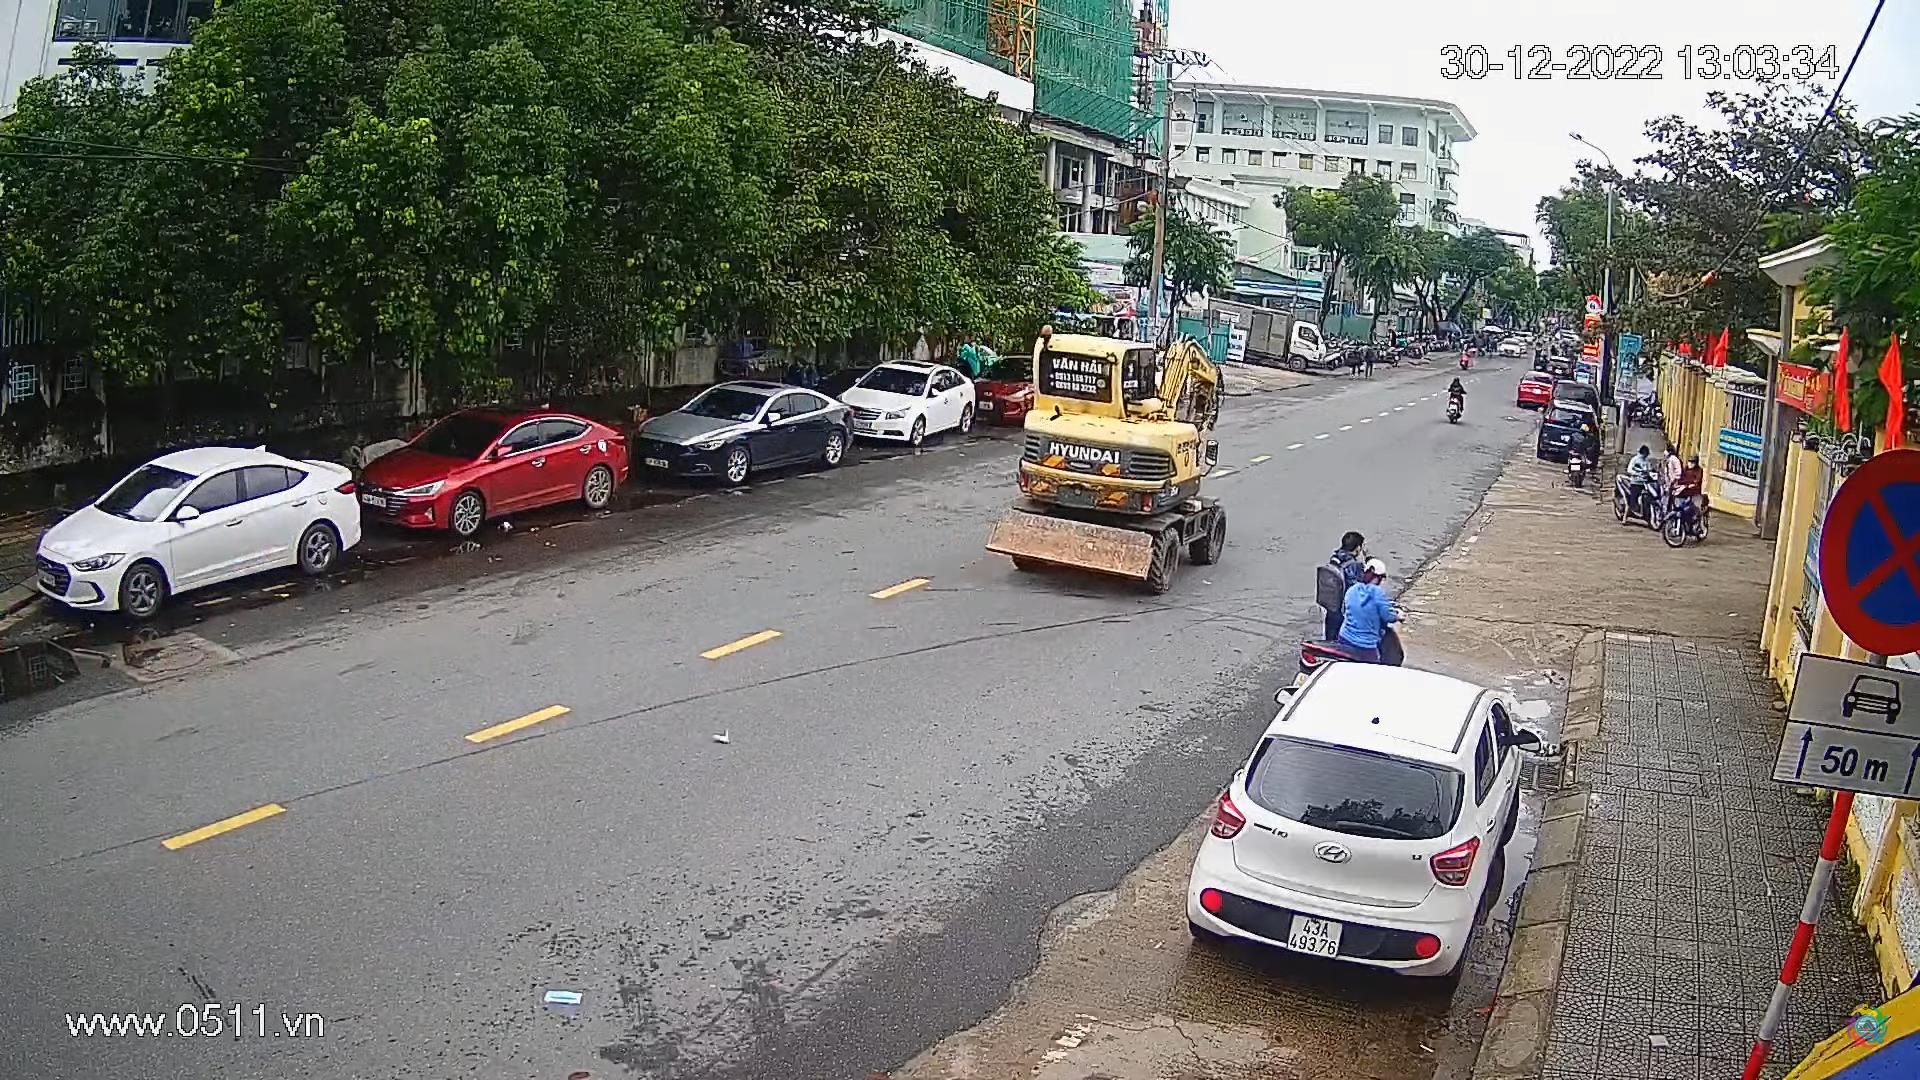excavator: (985, 324, 1236, 592)
